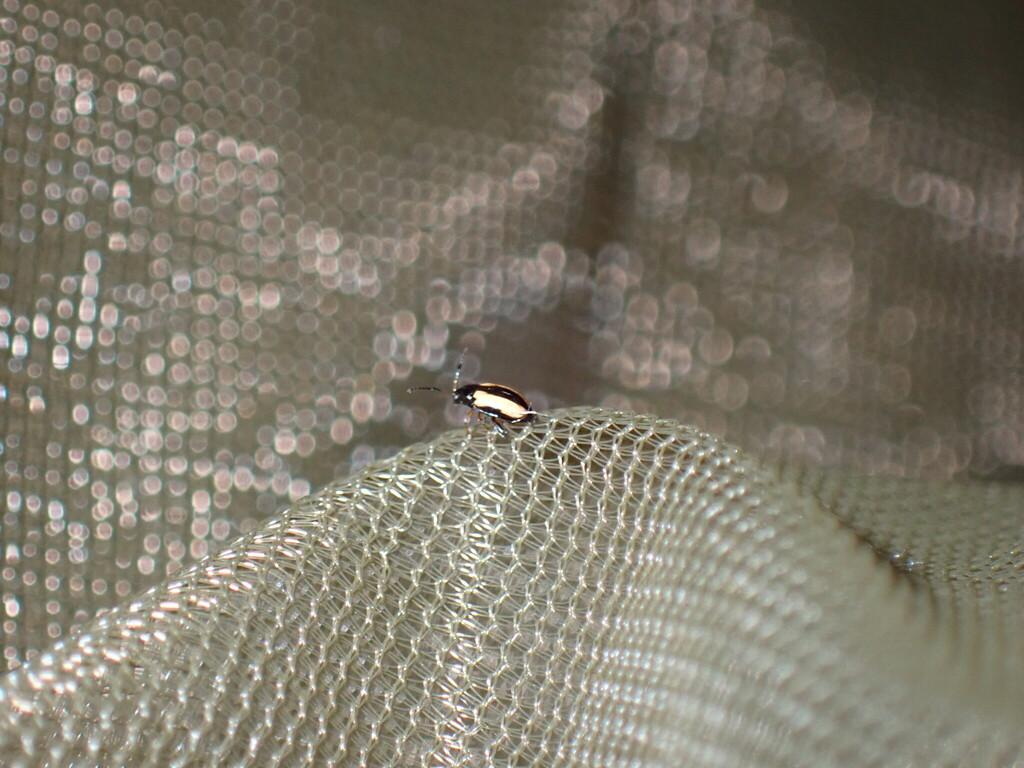flea_beetle: (394, 316, 554, 467)
